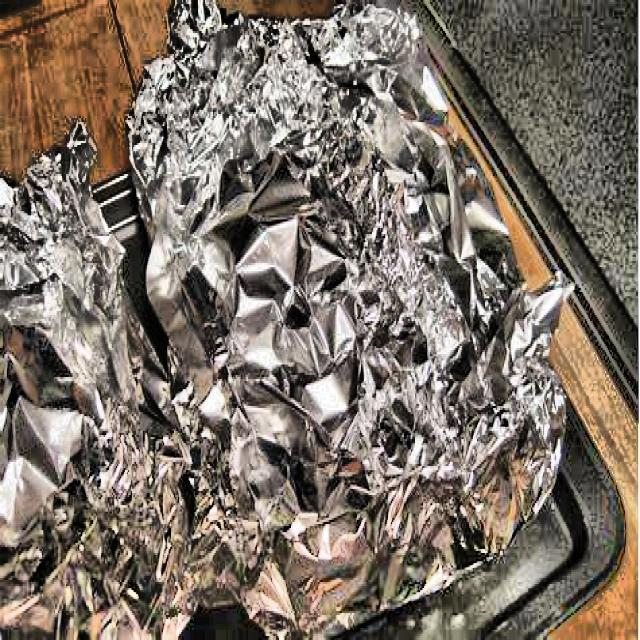Foil: (0, 0, 581, 640)
